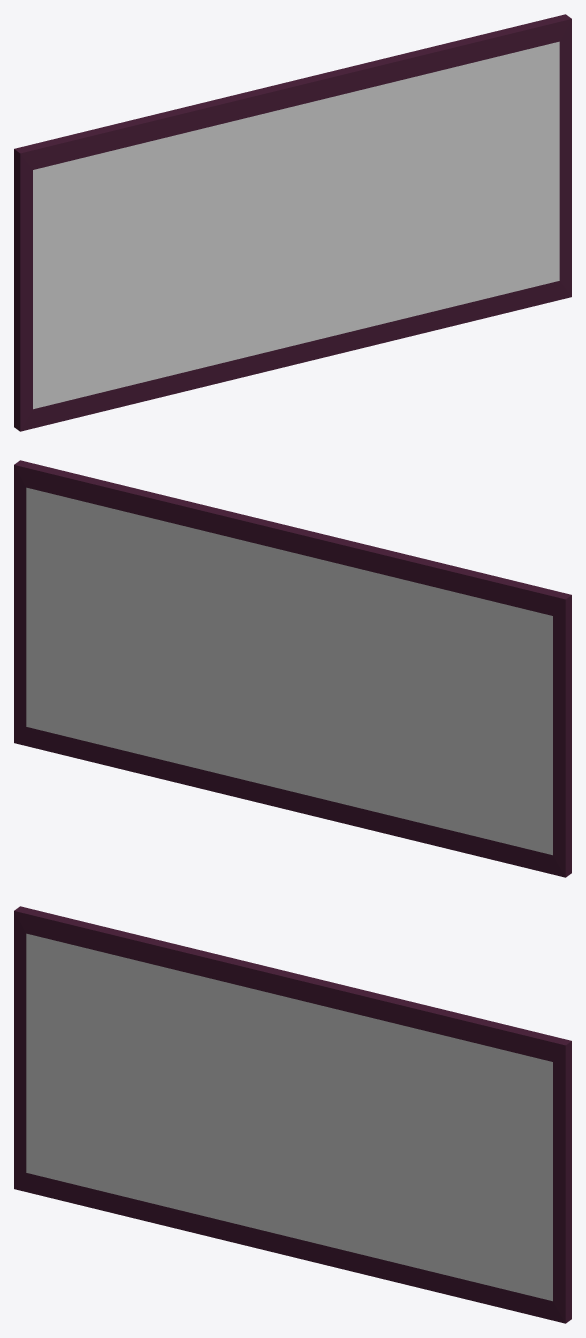
Rendered from classifica.fbx.
3 views of the same model, one above another, from view 1: azimuth 30°, elevation 25°; view 2: azimuth 150°, elevation 25°; view 3: azimuth 330°, elevation 25° (orthographic).
Visible parts, largest first — view 1: classifica; view 2: classifica; view 3: classifica.
Boxes of the visible parts, box(x1,y1,x2,y2) form: classifica: box(14, 14, 571, 431); classifica: box(14, 460, 571, 877); classifica: box(14, 906, 571, 1323).
Size of the model in its own units: 306 by 147 by 6.4.
